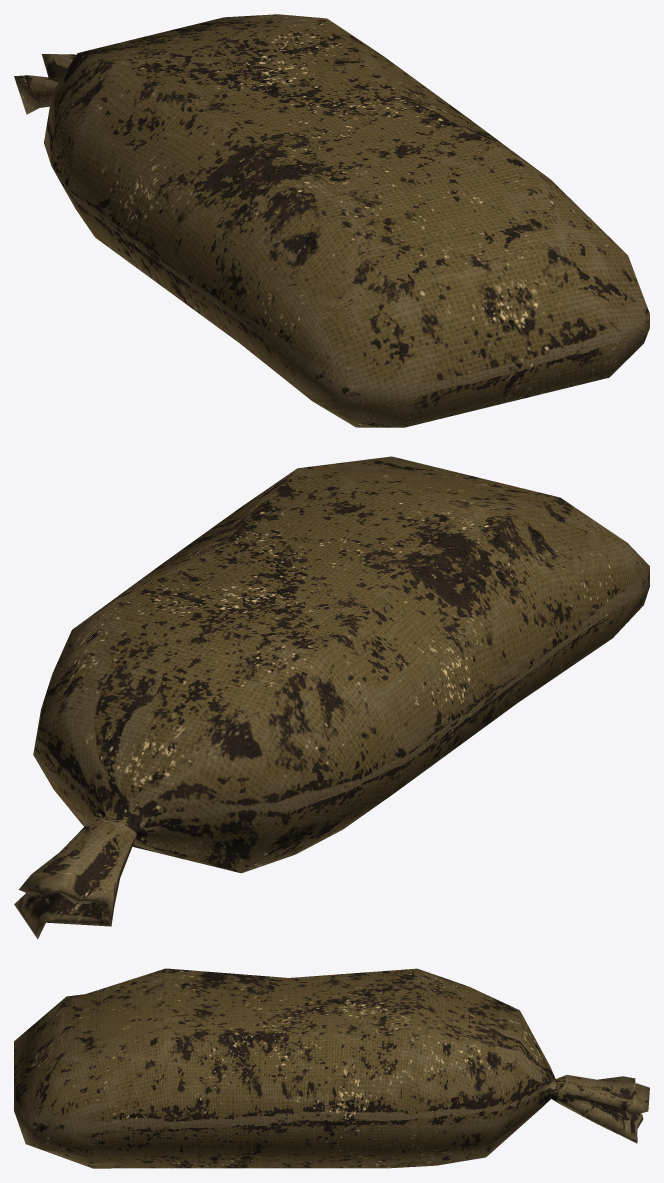
The model's file is bag_1.fbx.
3 views of the same model, one above another, from view 1: azimuth 30°, elevation 25°; view 2: azimuth 150°, elevation 25°; view 3: azimuth 270°, elevation 25° (orthographic). The views are drawn at different scales.
Visible parts, largest first — view 1: bag_1; view 2: bag_1; view 3: bag_1.
Part boxes in pixels (bbox=[...]): bag_1: bbox=[14, 14, 649, 427]; bag_1: bbox=[14, 456, 649, 939]; bag_1: bbox=[14, 968, 649, 1168].
Bounding box in the file's own units: 48.23 × 25.91 × 111.
1 material, 1 textured.
